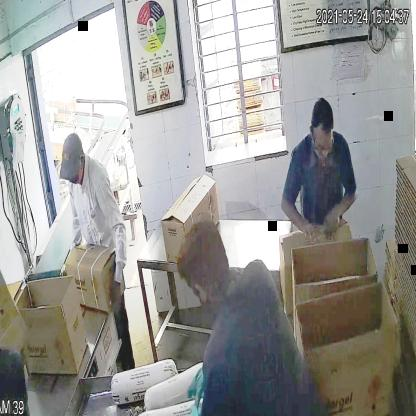goggles: (310, 132, 336, 160)
